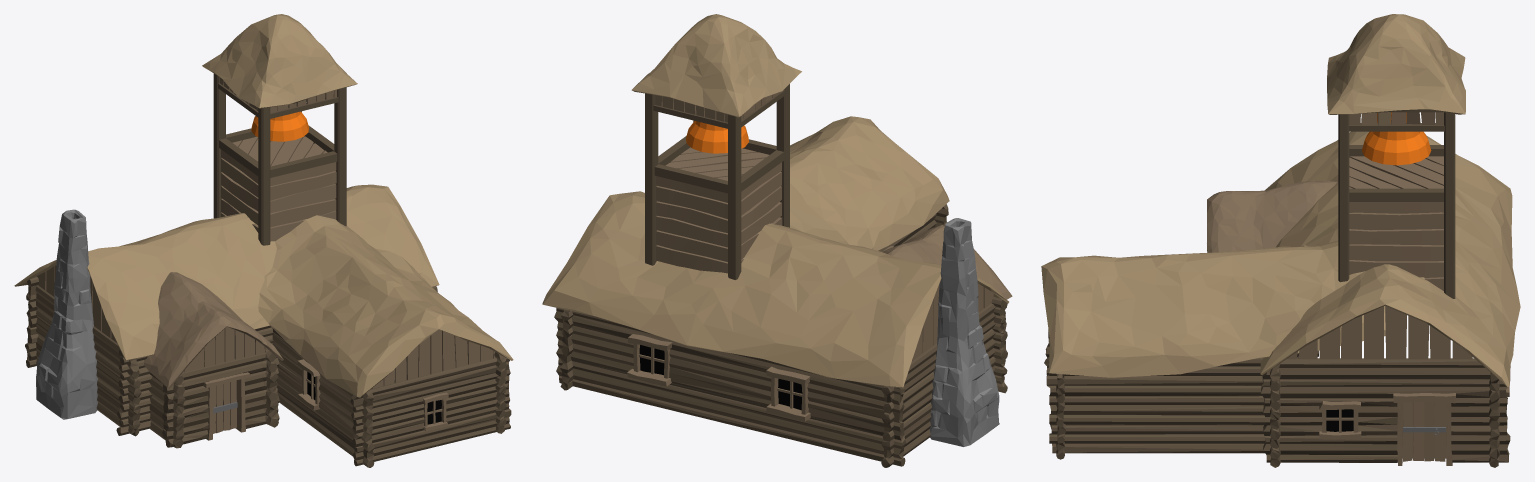
The model's file is village_wood_house_g.FBX.
3 views of the same model, side by side, from view 1: azimuth 30°, elevation 25°; view 2: azimuth 150°, elevation 25°; view 3: azimuth 270°, elevation 25° (orthographic). The views are drawn at different scales.
Parts seen in each view (by area): view 1: village_wood_house_g; view 2: village_wood_house_g; view 3: village_wood_house_g.
Part boxes in pixels (x1,y1,x2,y2): village_wood_house_g: (14, 14, 513, 467); village_wood_house_g: (542, 14, 1012, 467); village_wood_house_g: (1041, 14, 1520, 467).
Size of the model in its own units: 11.47 by 10.32 by 11.35.
